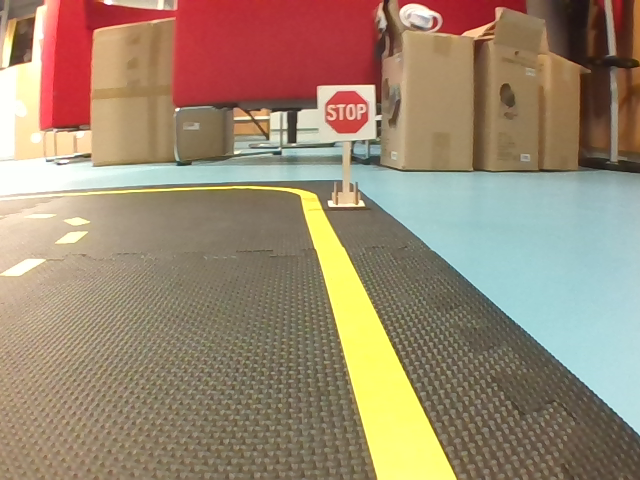no30: (1, 103, 21, 148)
